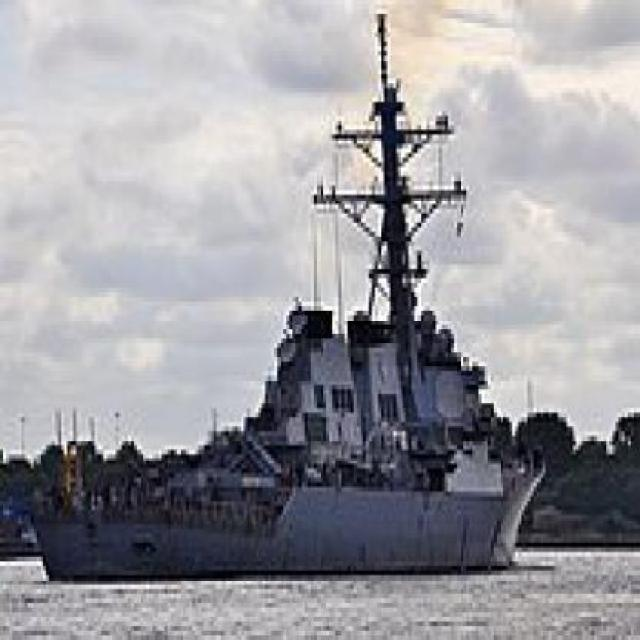warship2: (31, 20, 537, 604)
